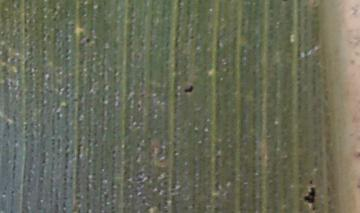tarspot: (302, 185, 316, 205), (183, 84, 194, 95), (306, 177, 313, 186), (309, 205, 316, 213), (84, 37, 91, 44)
